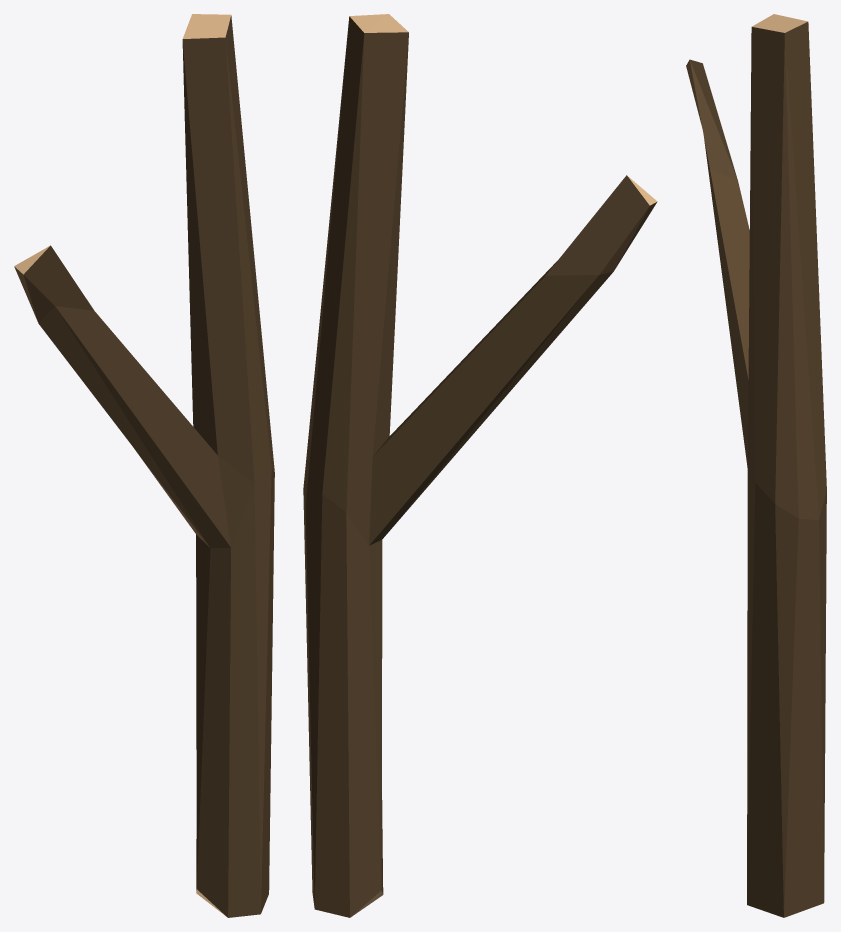
File: log_03.fbx
3 views of the same model, side by side, from view 1: azimuth 30°, elevation 25°; view 2: azimuth 150°, elevation 25°; view 3: azimuth 270°, elevation 25° (orthographic). The views are drawn at different scales.
Visible parts, largest first — view 1: log_03; view 2: log_03; view 3: log_03.
Boxes of the visible parts, box(x1,y1,x2,y2) form: log_03: box(14, 14, 274, 917); log_03: box(303, 14, 657, 917); log_03: box(686, 14, 826, 917).
Bounding box in the file's own units: 12.16 × 34.59 × 5.09.
